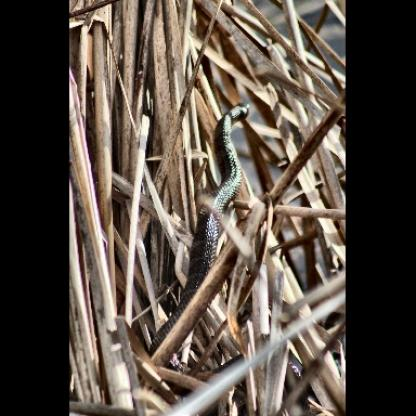Snake: (152, 95, 250, 364), (200, 98, 258, 214)
